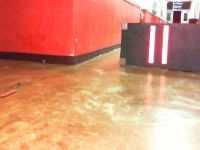switch: (148, 25, 156, 63), (162, 25, 169, 64)
